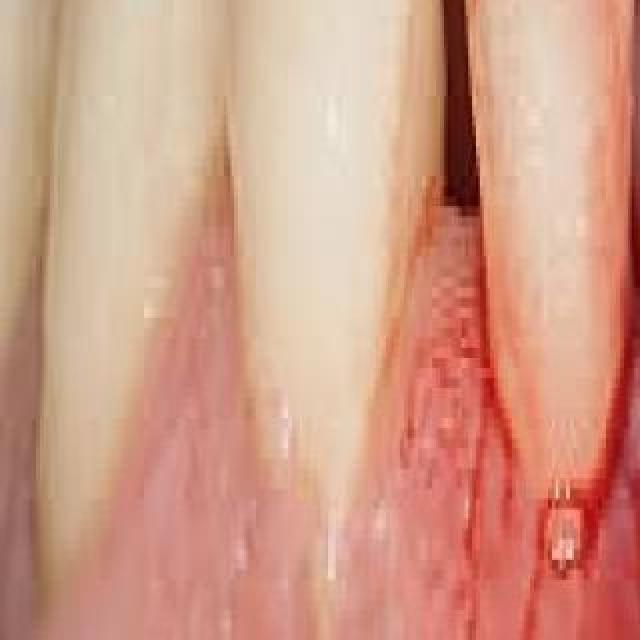missing: (636, 0, 640, 468)
spacing: (350, 0, 534, 256)
